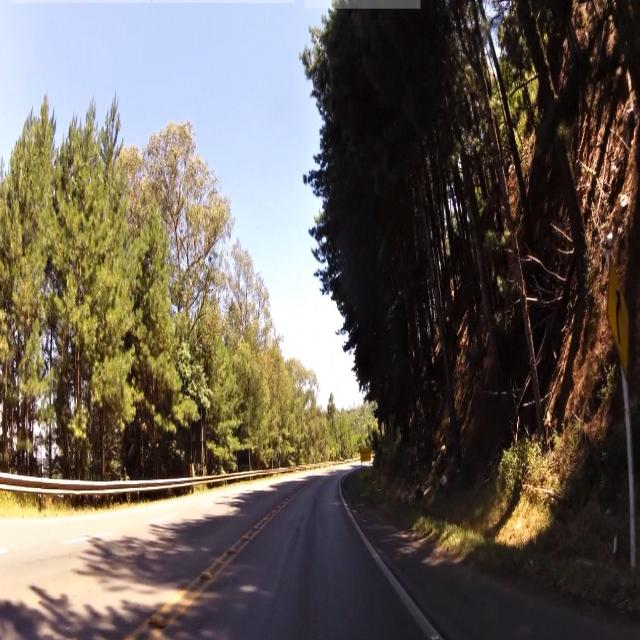A-2b: (608, 259, 636, 383)
